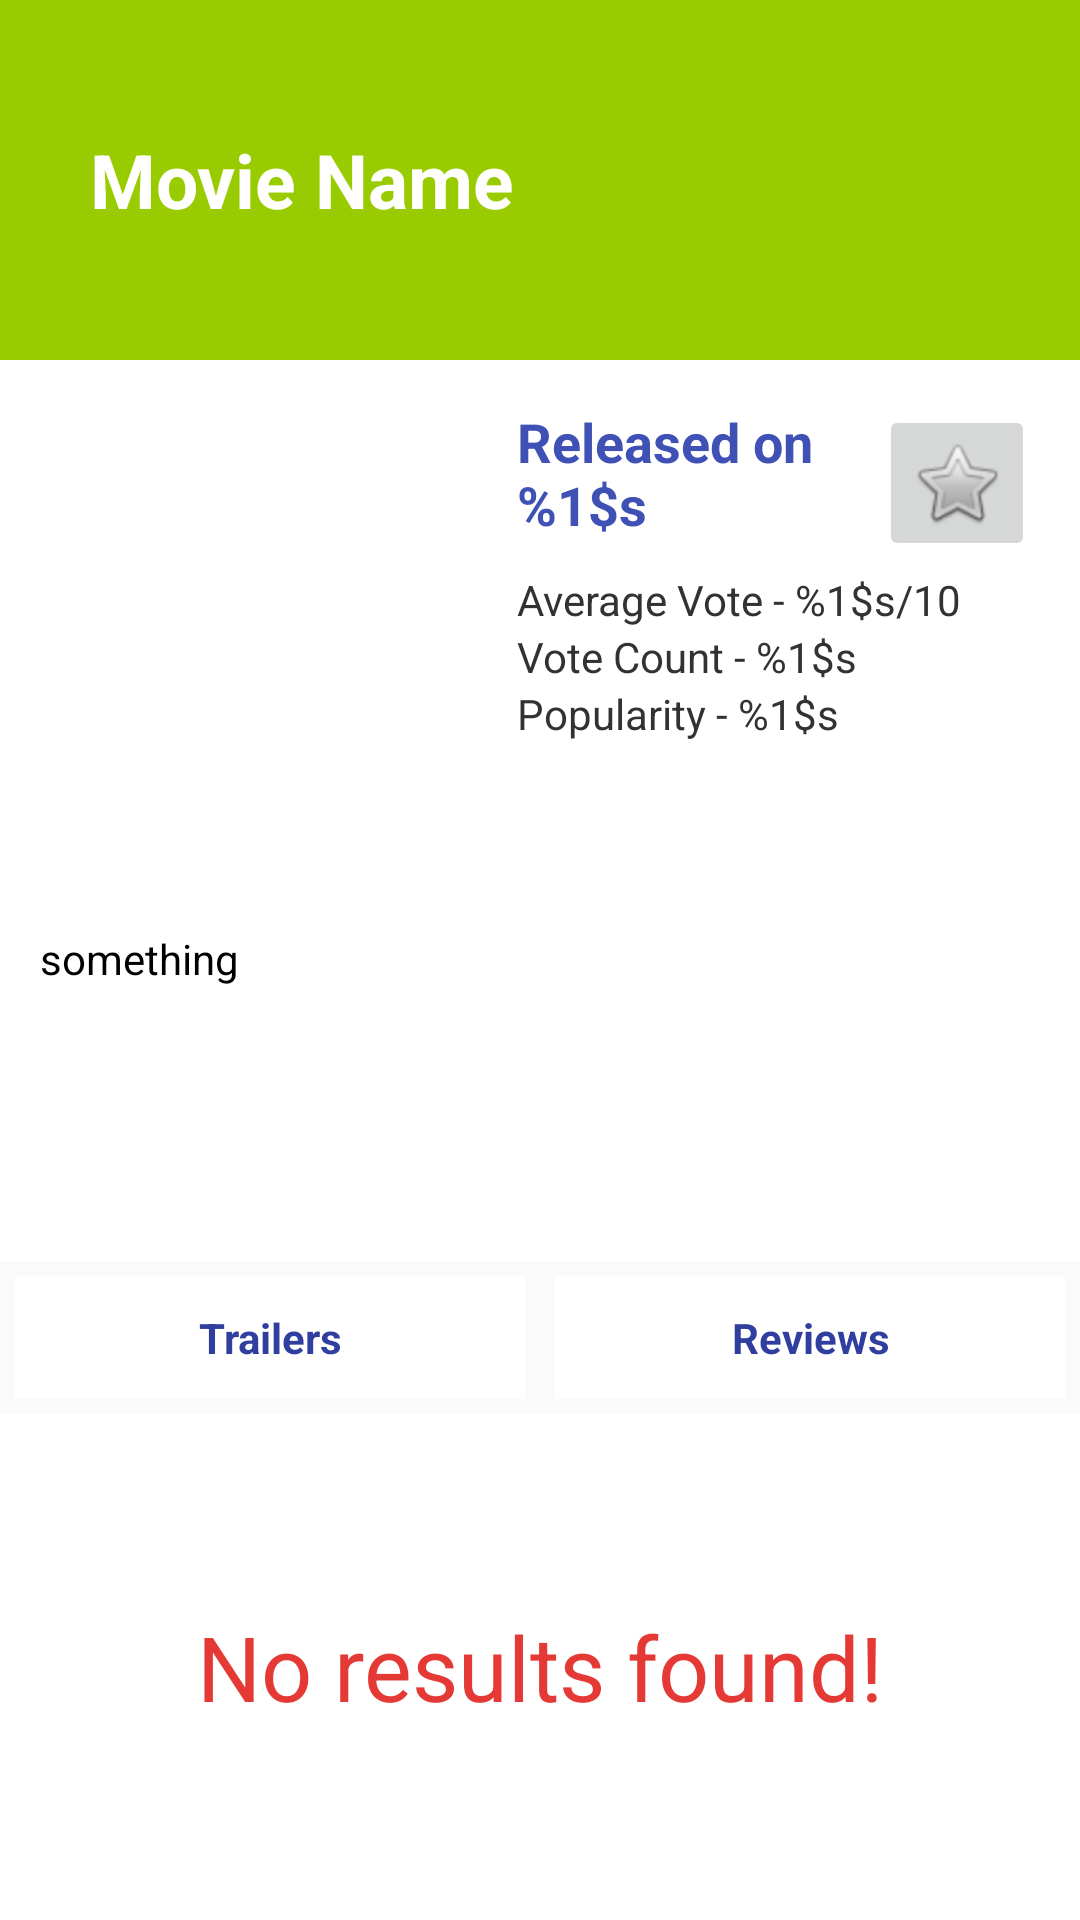

Icons on this 1080px×1920px Android screen, each with the point to tap as [x,y]:
fav: [957,483]
